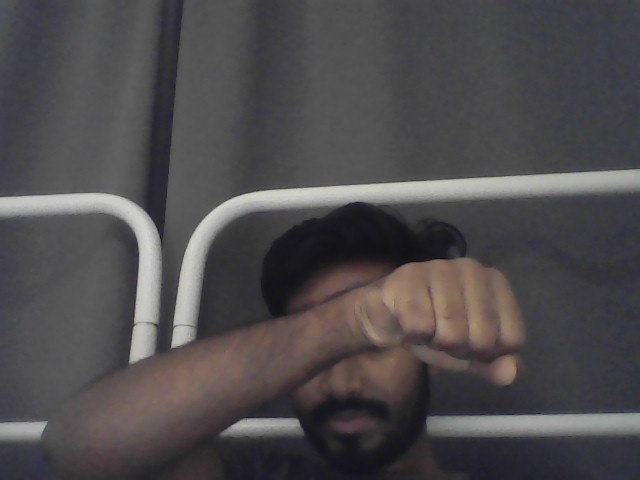yes: (380, 257, 531, 390)
